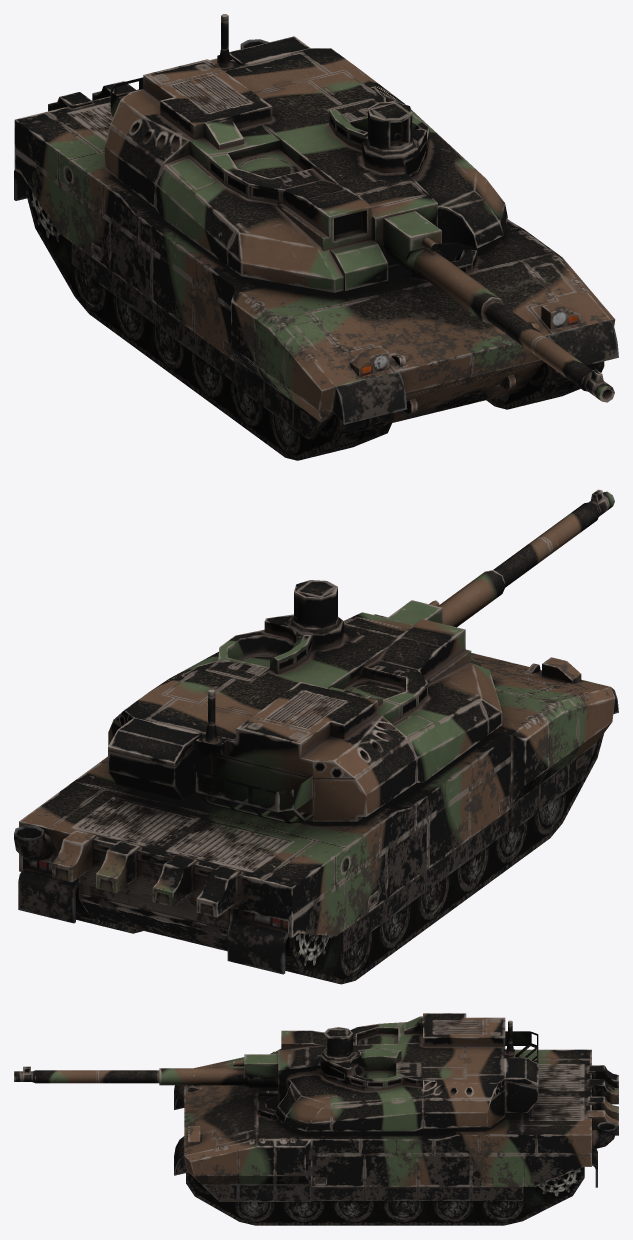
Rendered from amx_56_lowpoly.glb.
3 views of the same model, one above another, from view 1: azimuth 30°, elevation 25°; view 2: azimuth 150°, elevation 25°; view 3: azimuth 270°, elevation 25° (orthographic). The views are drawn at different scales.
Parts seen in each view (by area): view 1: hull_amx56_lowpoly, turret_amx56_lowpoly, cannon_amx56_lowpoly; view 2: hull_amx56_lowpoly, turret_amx56_lowpoly, cannon_amx56_lowpoly; view 3: hull_amx56_lowpoly, turret_amx56_lowpoly, cannon_amx56_lowpoly.
Boxes of the visible parts, <box> form: hull_amx56_lowpoly: <box>14,39,618,460</box>; turret_amx56_lowpoly: <box>104,14,507,292</box>; cannon_amx56_lowpoly: <box>383,211,614,402</box>; hull_amx56_lowpoly: <box>14,614,618,984</box>; turret_amx56_lowpoly: <box>108,580,502,823</box>; cannon_amx56_lowpoly: <box>387,489,614,627</box>; hull_amx56_lowpoly: <box>174,1049,618,1225</box>; turret_amx56_lowpoly: <box>259,1013,538,1131</box>; cannon_amx56_lowpoly: <box>14,1054,278,1087</box>.
Size of the model in its own units: 3.48 by 2.96 by 9.78.
Materials: 1 (1 with a texture image).
